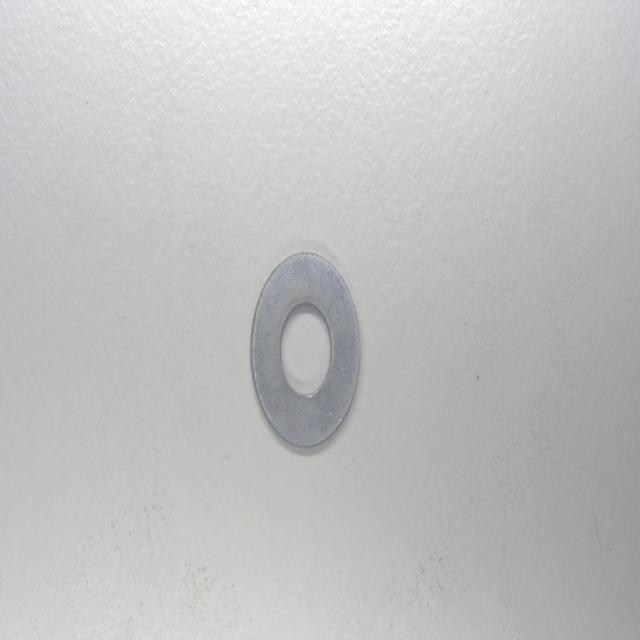washer: (250, 247, 362, 449)
